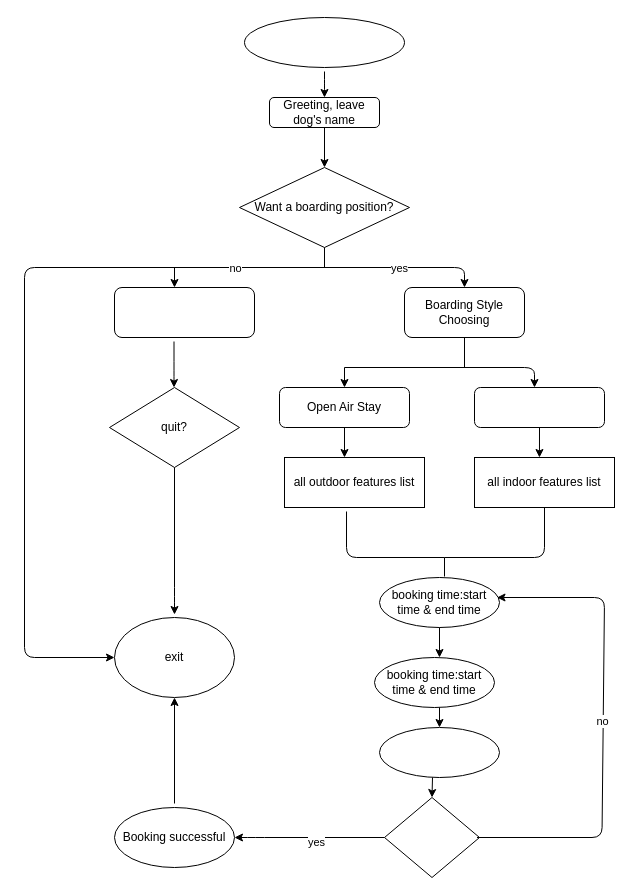
This 632x895 diagram has some shape labels left out. Each missing label, with the centre of its shape:
all information right?: the point at 432,837
Deluxe Indoor Stay: the point at 539,407
Luxury Dog Boarding Home: the point at 324,42
personal details leave: the point at 439,752
view more information: the point at 184,312
